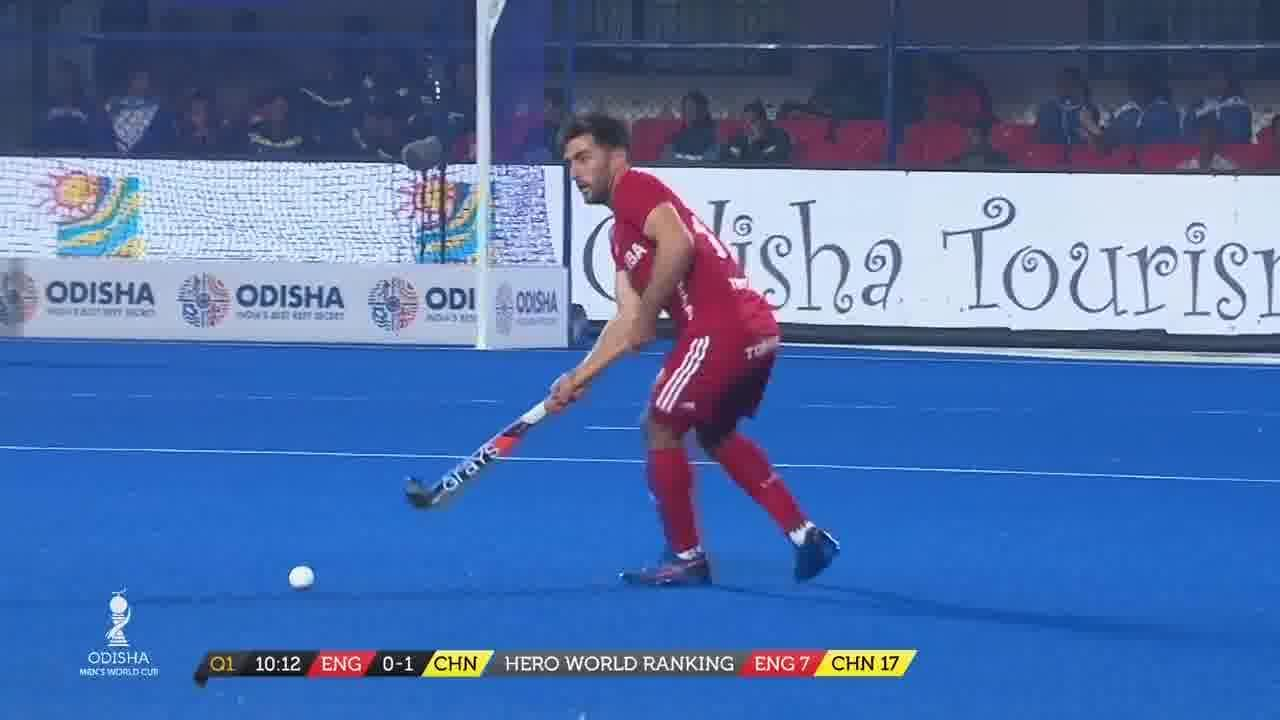ball: (287, 558, 320, 594)
